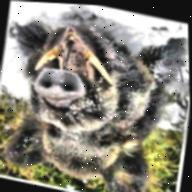boar: (18, 10, 192, 192)
